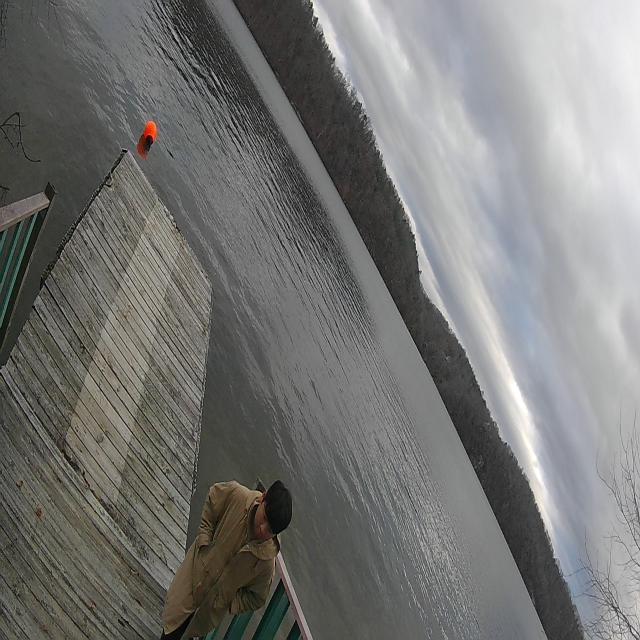Buoy: (143, 118, 158, 151)
